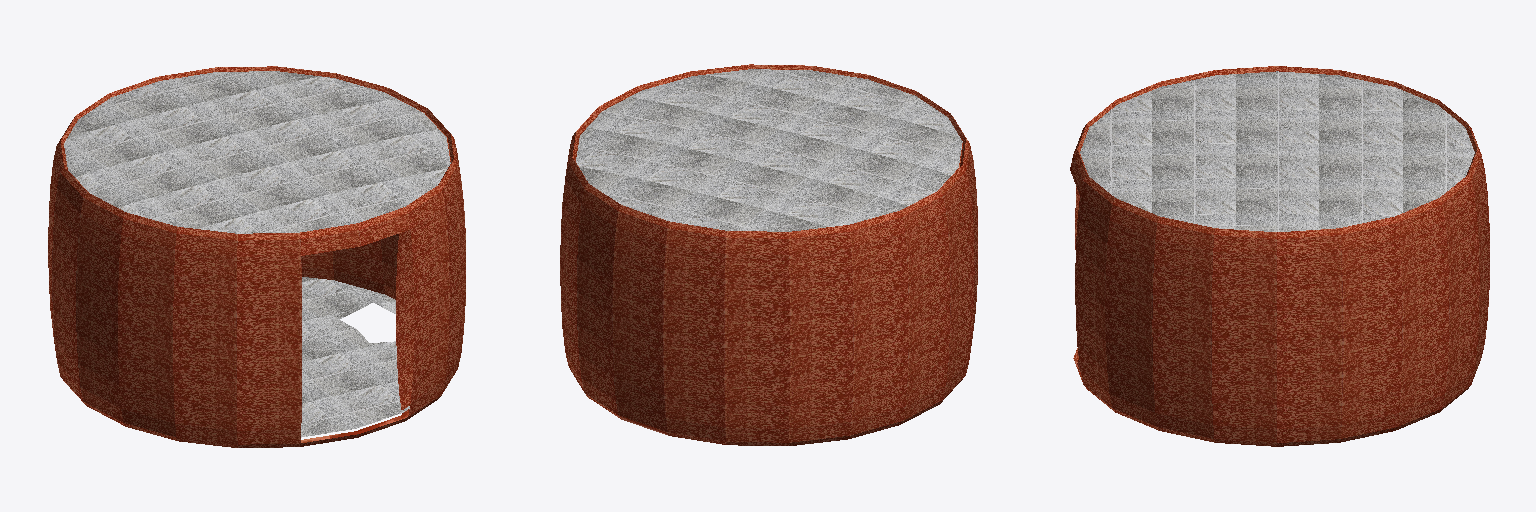
3 renders of one model, left to right at view 1: azimuth 30°, elevation 25°; view 2: azimuth 150°, elevation 25°; view 3: azimuth 270°, elevation 25°, orthographic.
Parts seen in each view (by area): view 1: pasted__pTorus3 group2; view 2: pasted__pTorus3 group2; view 3: pasted__pTorus3 group2.
Part boxes in pixels (left/top/right/bottom): pasted__pTorus3 group2: left=48, top=66, right=465, bottom=447; pasted__pTorus3 group2: left=560, top=64, right=977, bottom=445; pasted__pTorus3 group2: left=1070, top=66, right=1489, bottom=446.
Size of the model in its own units: 16.8 by 9.54 by 16.87.
Materials: 2 (2 with a texture image).